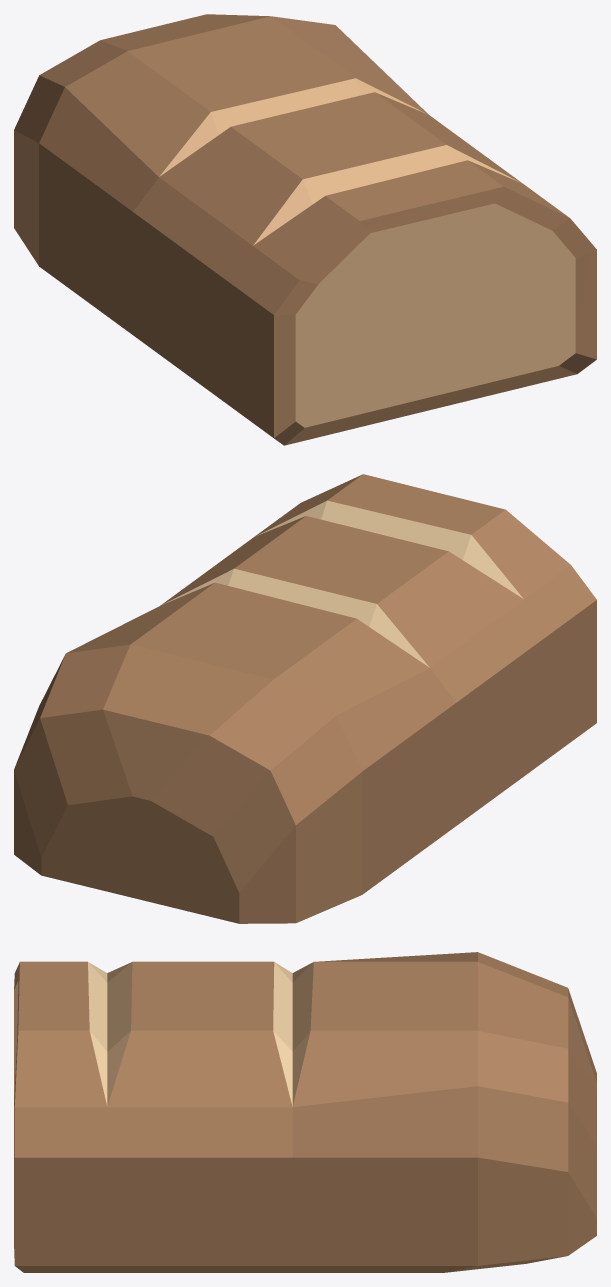
File: Bread_02.glb
The picture shows the model from 3 angles, top to bottom: view 1: azimuth 30°, elevation 25°; view 2: azimuth 150°, elevation 25°; view 3: azimuth 270°, elevation 25°; orthographic projection.
Parts seen in each view (by area): view 1: Bread_02; view 2: Bread_02; view 3: Bread_02.
Part boxes in pixels (x1=…): Bread_02: x1=14, y1=14, x2=596, y2=445; Bread_02: x1=14, y1=474, x2=596, y2=923; Bread_02: x1=14, y1=952, x2=596, y2=1272.
Size of what is drawn, in the model's own units: 0.1166 by 0.0717 by 0.1846.
Materials: 1 (1 with a texture image).
